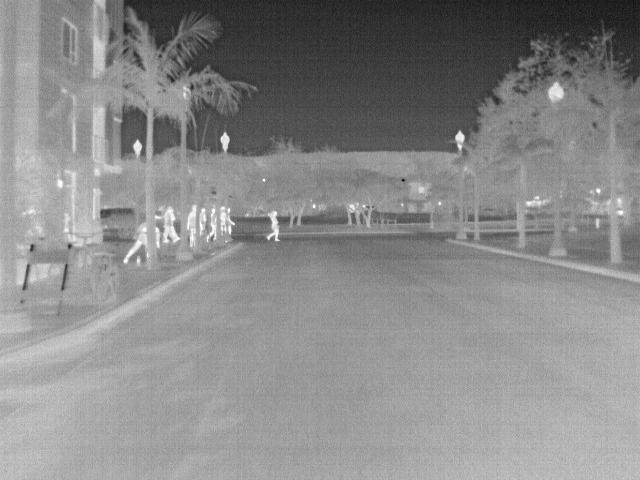person: (117, 222, 146, 266), (182, 202, 199, 244), (162, 204, 178, 246), (267, 209, 283, 244), (223, 206, 238, 236), (206, 204, 218, 239)
